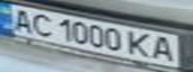0: (103, 25, 127, 53), (69, 19, 90, 46), (87, 22, 106, 50)
1: (51, 16, 75, 42)
A: (148, 34, 181, 63), (6, 6, 39, 34)
C: (27, 11, 57, 38)
K: (124, 29, 157, 57)
